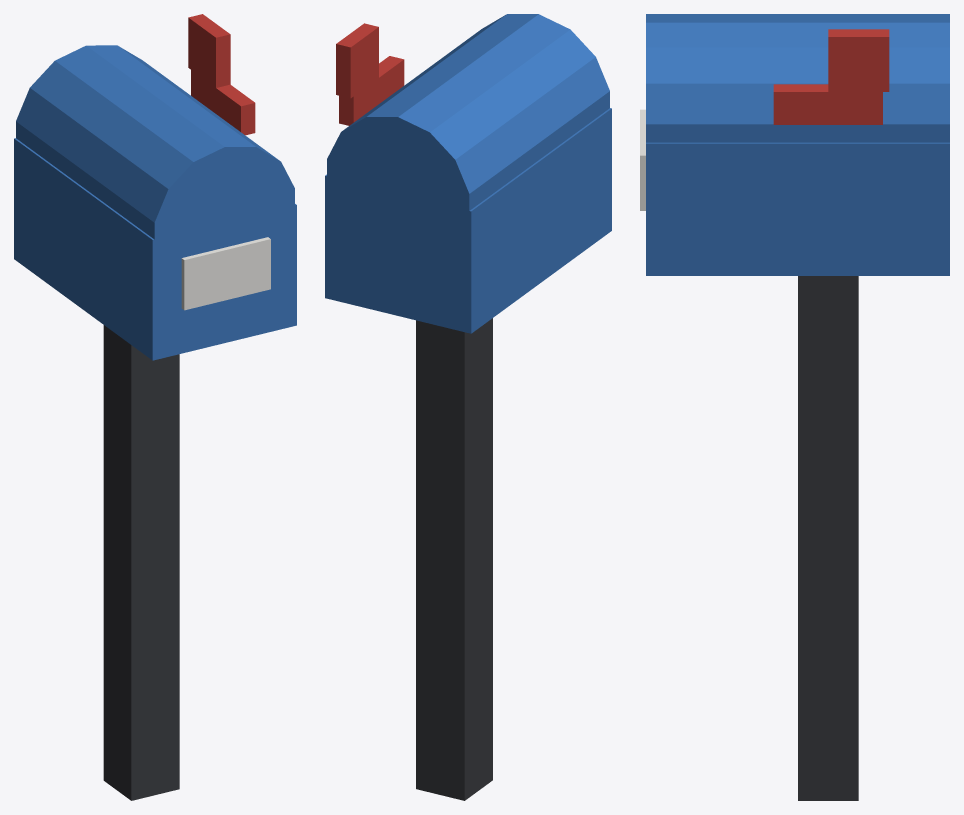
File: mailbox.glb
3 views of the same model, side by side, from view 1: azimuth 30°, elevation 25°; view 2: azimuth 150°, elevation 25°; view 3: azimuth 270°, elevation 25° (orthographic). The views are drawn at different scales.
Visible parts, largest first — view 1: mailbox; view 2: mailbox; view 3: mailbox.
Part boxes in pixels (left/top/right/bottom): mailbox: left=14, top=14, right=296, bottom=800; mailbox: left=325, top=14, right=611, bottom=800; mailbox: left=640, top=14, right=949, bottom=800.
Size of the model in its own units: 0.335 by 1.45 by 0.51.
